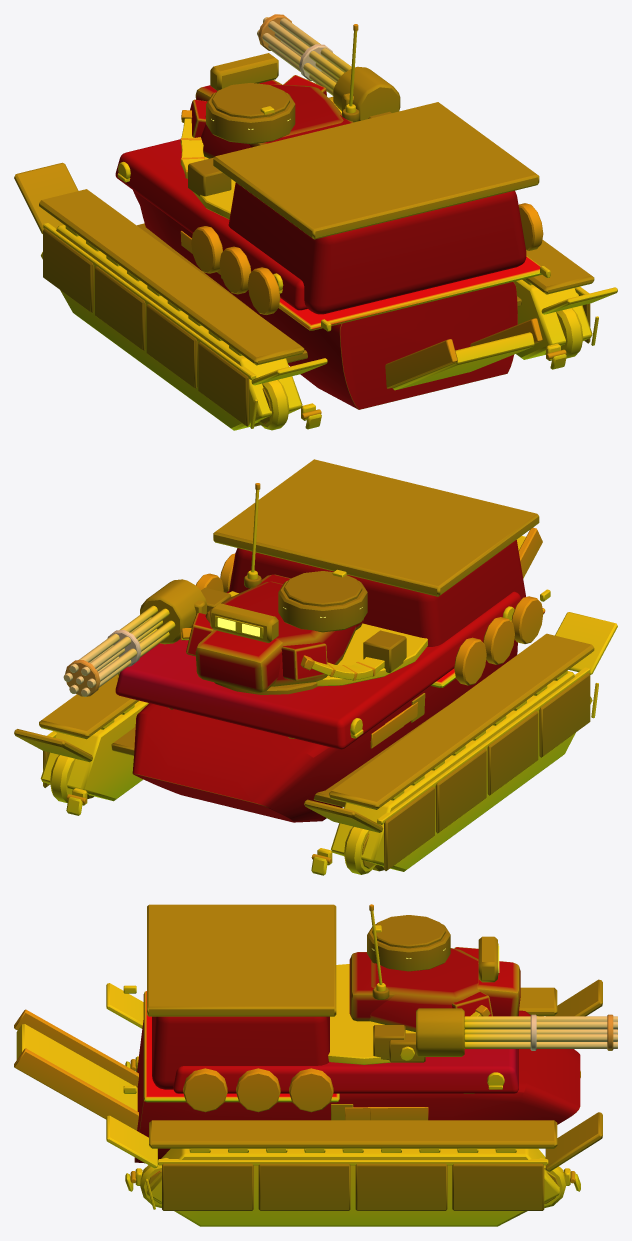
The model's file is MinefieldSower.fbx.
The picture shows the model from 3 angles, top to bottom: view 1: azimuth 30°, elevation 25°; view 2: azimuth 150°, elevation 25°; view 3: azimuth 270°, elevation 25°; orthographic projection. The views are drawn at different scales.
Visible parts, largest first — view 1: MinefieldSower_MinefieldSower_PrimaryArmor, MinefieldSower_MinefieldSower_LightArmor, MinefieldSower_MinefieldSower_Gunmetal, MinefieldSower_MinefieldSower_Tread, MinefieldSower_MinefieldSower_Warning, MinefieldSowerTurret_BaseShell; view 2: MinefieldSower_MinefieldSower_LightArmor, MinefieldSower_MinefieldSower_PrimaryArmor, MinefieldSower_MinefieldSower_Tread, MinefieldSower_MinefieldSower_Gunmetal, MinefieldSower_MinefieldSower_Warning, MinefieldSowerTurret_BaseShell; view 3: MinefieldSower_MinefieldSower_LightArmor, MinefieldSower_MinefieldSower_PrimaryArmor, MinefieldSower_MinefieldSower_Gunmetal, MinefieldSower_MinefieldSower_Tread, MinefieldSower_MinefieldSower_Warning, MinefieldSowerTurret_BaseShell.
Boxes of the visible parts, x1=… form: MinefieldSower_MinefieldSower_PrimaryArmor: x1=43, y1=83, x2=590, y2=426; MinefieldSower_MinefieldSower_LightArmor: x1=14, y1=53, x2=594, y2=365; MinefieldSower_MinefieldSower_Gunmetal: x1=43, y1=14, x2=589, y2=430; MinefieldSower_MinefieldSower_Tread: x1=41, y1=225, x2=617, y2=430; MinefieldSower_MinefieldSower_Warning: x1=180, y1=14, x2=566, y2=418; MinefieldSowerTurret_BaseShell: x1=201, y1=84, x2=343, y2=158; MinefieldSower_MinefieldSower_LightArmor: x1=14, y1=459, x2=594, y2=832; MinefieldSower_MinefieldSower_PrimaryArmor: x1=43, y1=540, x2=590, y2=870; MinefieldSower_MinefieldSower_Tread: x1=40, y1=612, x2=617, y2=871; MinefieldSower_MinefieldSower_Gunmetal: x1=47, y1=536, x2=590, y2=875; MinefieldSower_MinefieldSower_Warning: x1=65, y1=527, x2=543, y2=863; MinefieldSowerTurret_BaseShell: x1=205, y1=581, x2=356, y2=686; MinefieldSower_MinefieldSower_LightArmor: x1=147, y1=904, x2=602, y2=1171; MinefieldSower_MinefieldSower_PrimaryArmor: x1=134, y1=915, x2=580, y2=1210; MinefieldSower_MinefieldSower_Gunmetal: x1=16, y1=925, x2=617, y2=1207; MinefieldSower_MinefieldSower_Tread: x1=106, y1=983, x2=559, y2=1226; MinefieldSower_MinefieldSower_Warning: x1=14, y1=1005, x2=613, y2=1183; MinefieldSowerTurret_BaseShell: x1=369, y1=948, x2=479, y2=1032.
Bounding box in the file's own units: 267 × 213 × 433.
